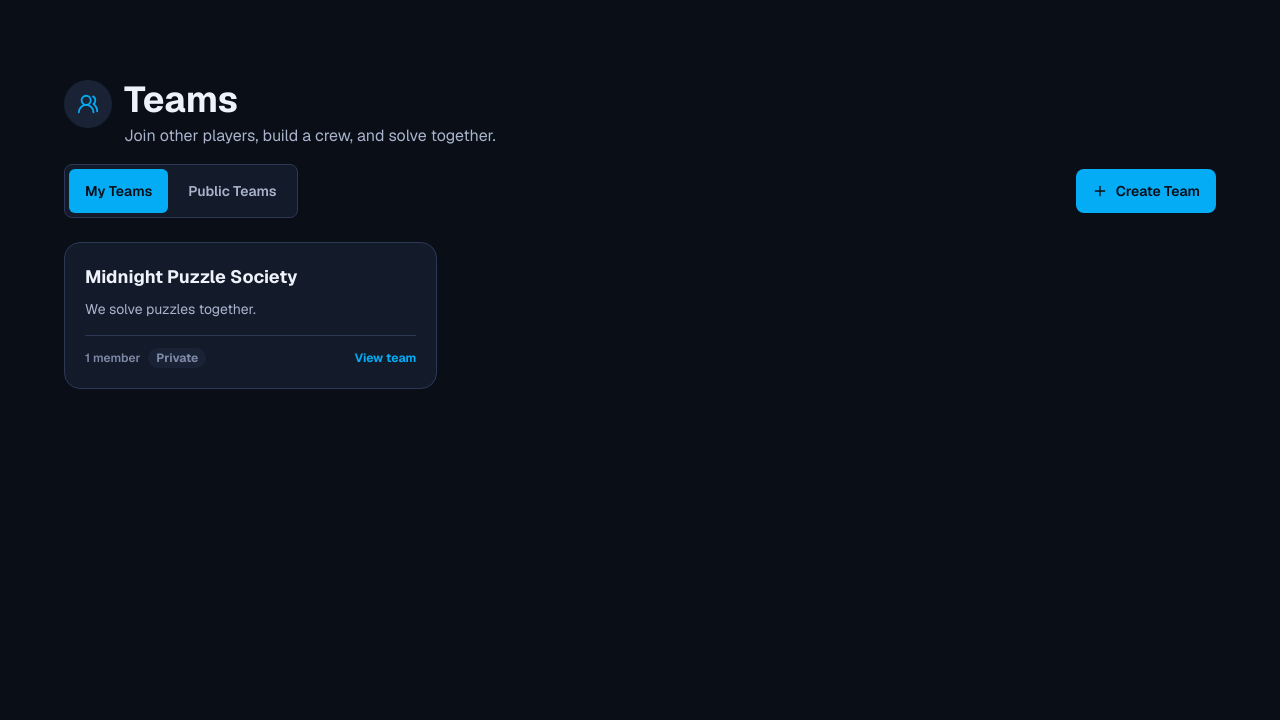
Test case: Teams hub page — existing modal wiring › 51. create success closes the modal; 52. reloads Teams exactly once; 53. preserves the selected view mode; 54. does not navigate
Click the button with test id "teams-hub-view-public" at (232, 191), box [172, 169, 292, 213]
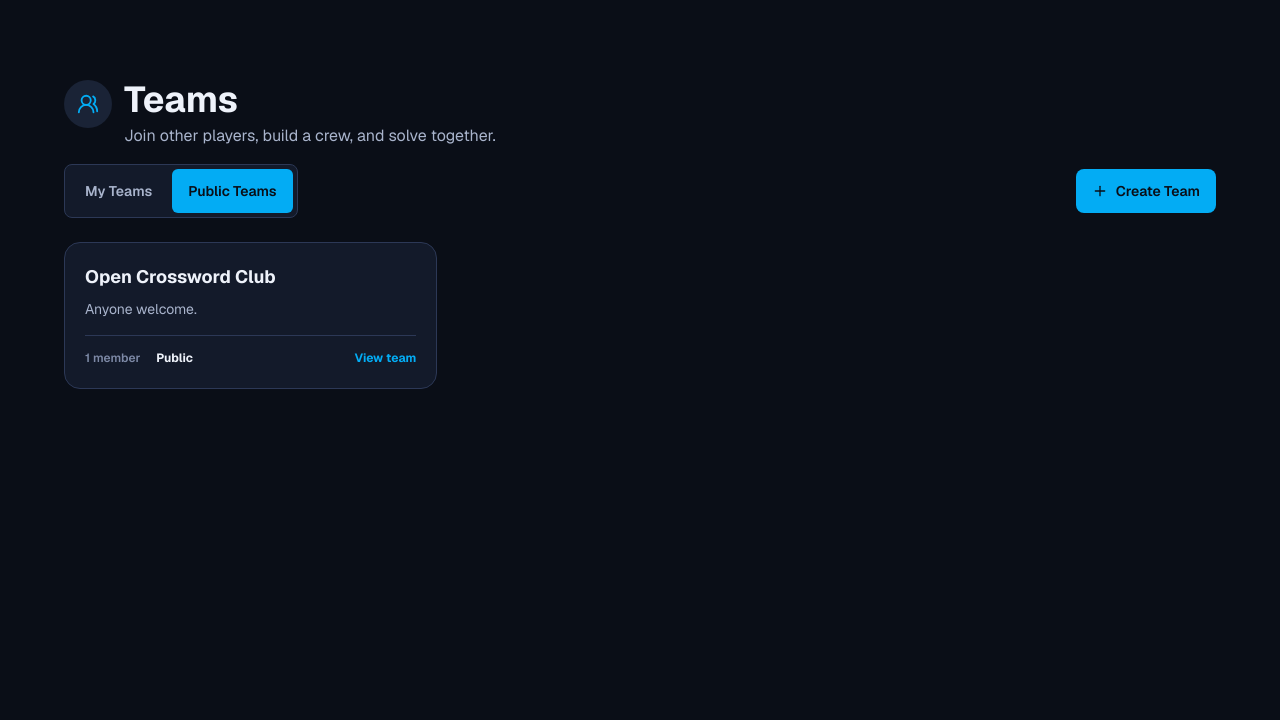
Click the button with test id "teams-hub-create" at (1146, 191), box [1076, 169, 1216, 213]
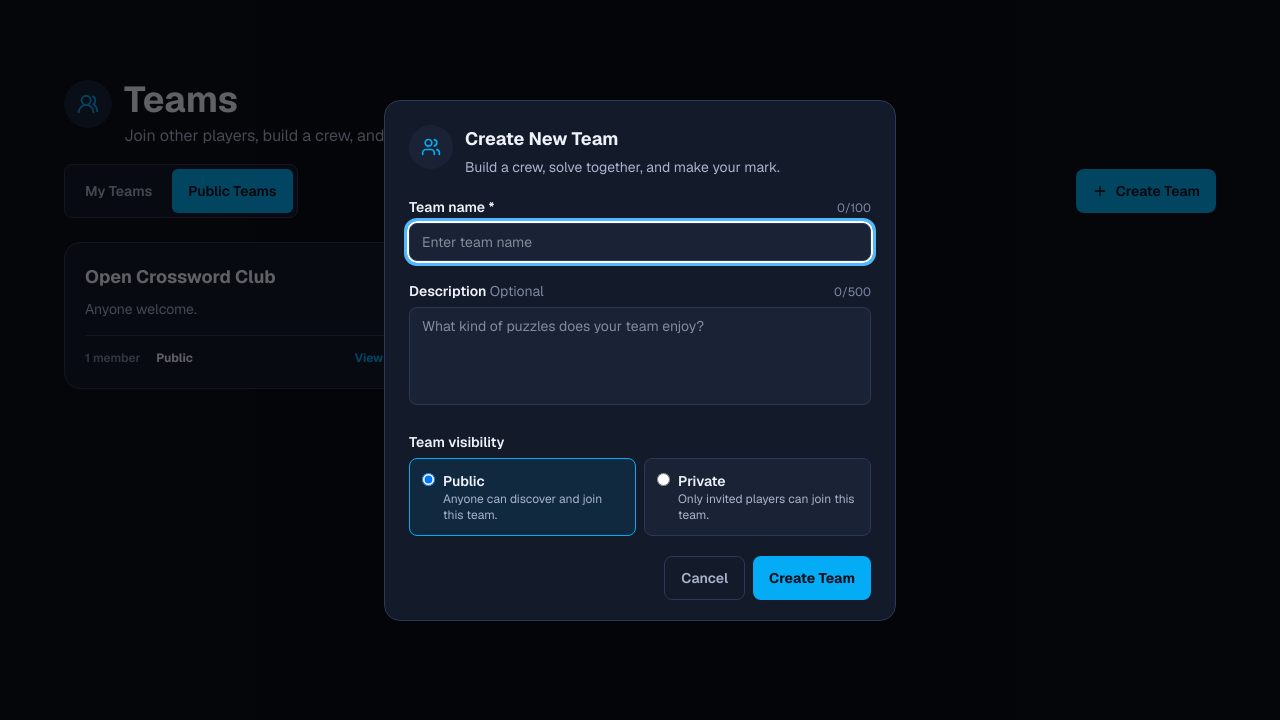
Type "Brand New Team" into the field with placeholder "Enter team name" at (640, 242), box [409, 222, 871, 260]
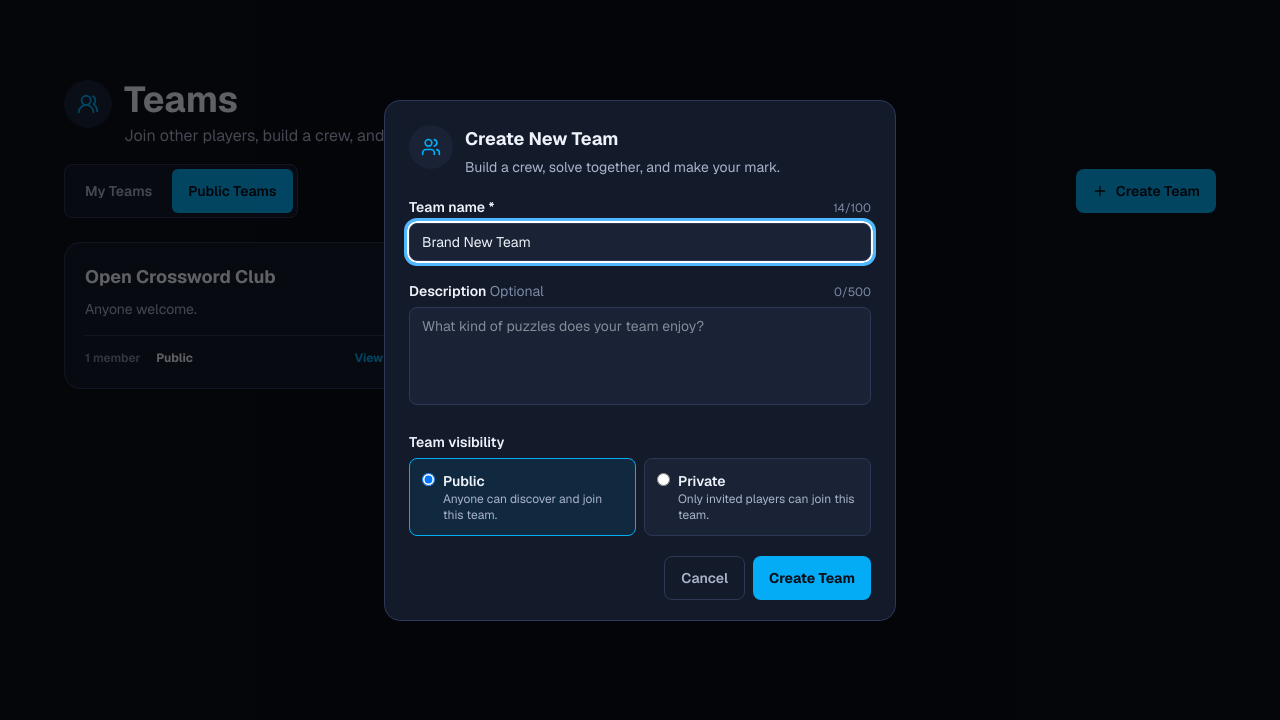
Click the button "Create Team" at (812, 578), box [753, 556, 871, 600]
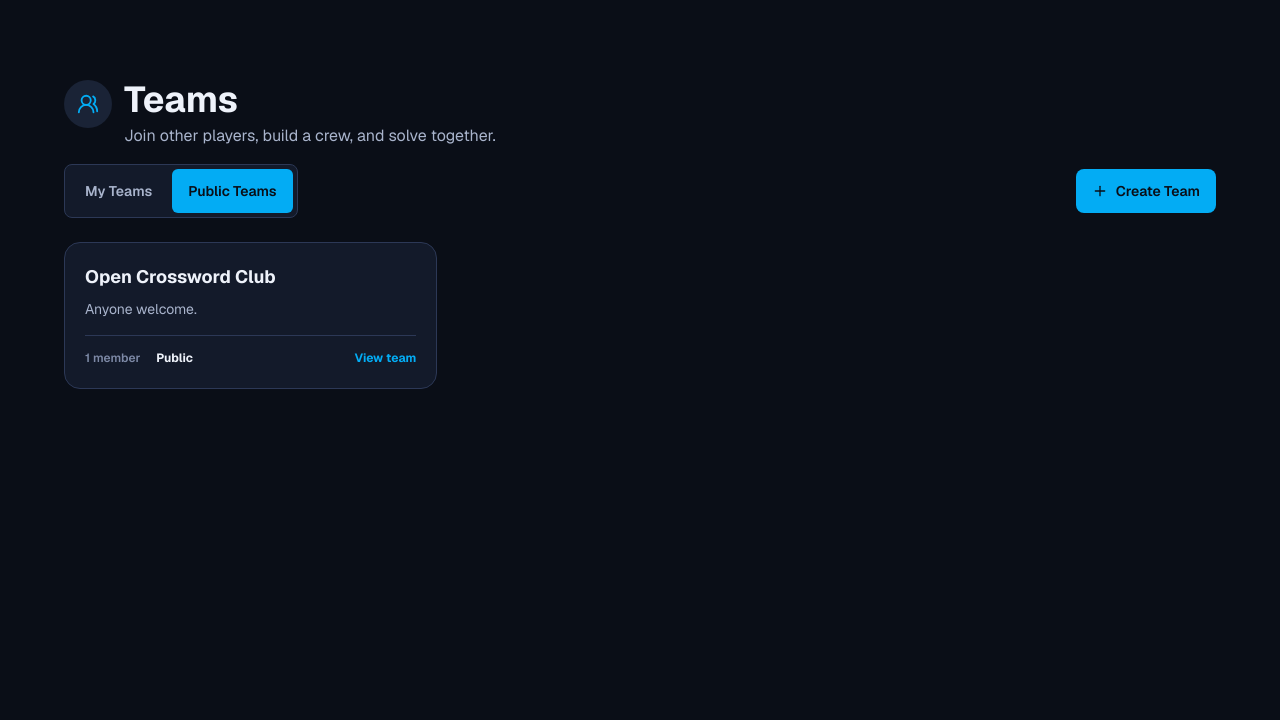
Expected: the heading "Create New Team" is gone
